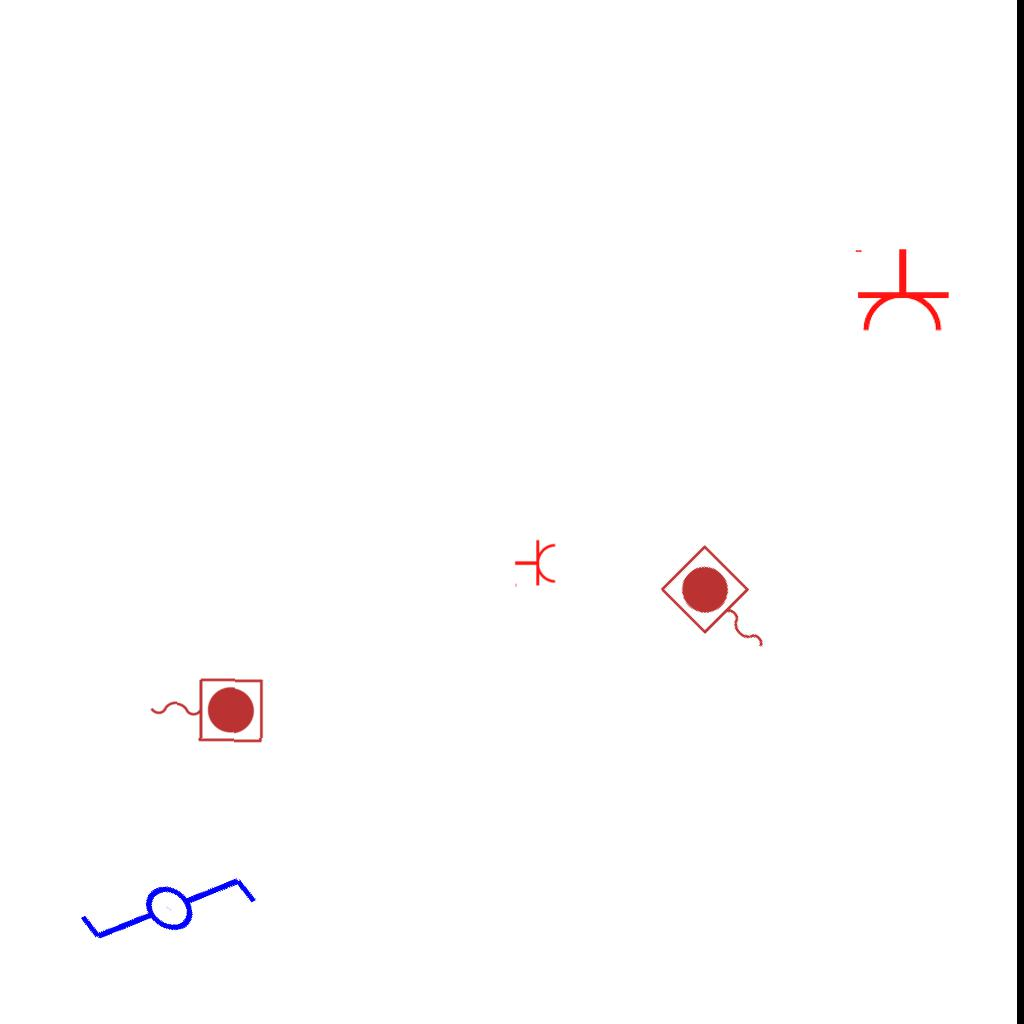Schukosteckdose_einfach: (851, 247, 951, 334), (514, 539, 557, 589)
Wechselschalter: (68, 810, 281, 1020)
Zugtaster: (653, 539, 791, 677), (144, 671, 268, 747)
